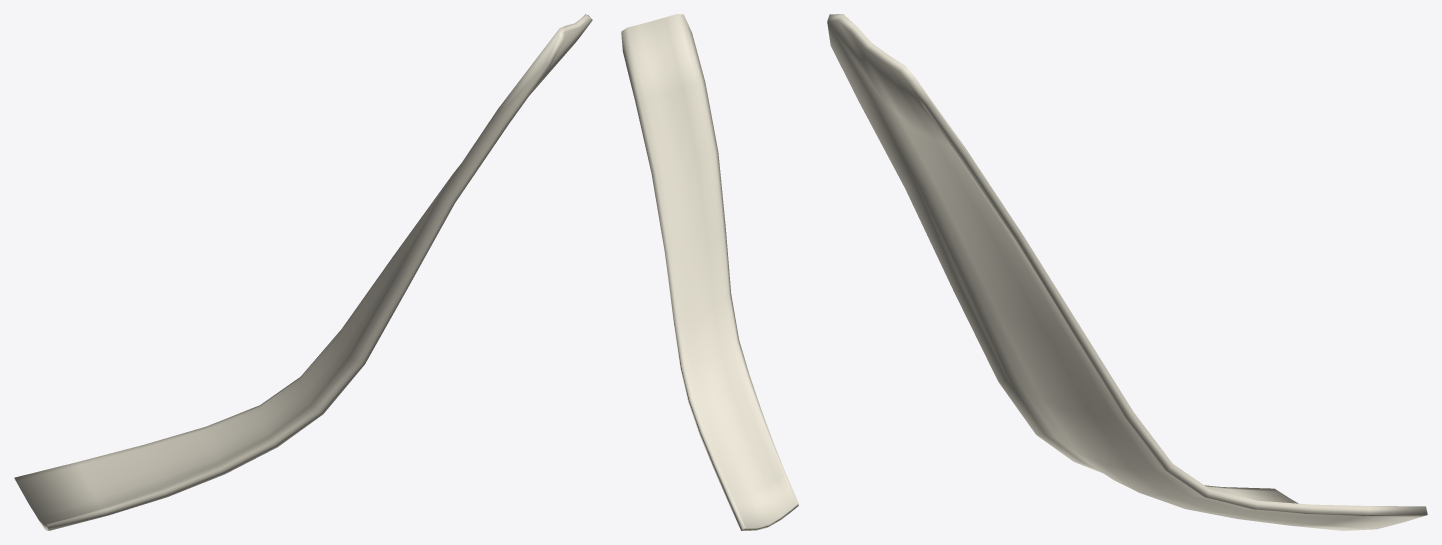
3 views of the same model, side by side, from view 1: azimuth 30°, elevation 25°; view 2: azimuth 150°, elevation 25°; view 3: azimuth 270°, elevation 25° (orthographic). The views are drawn at different scales.
Visible parts, largest first — view 1: ZA_c3fe4751d1df1a8b; view 2: ZA_c3fe4751d1df1a8b; view 3: ZA_c3fe4751d1df1a8b.
Boxes of the visible parts, <box> form: ZA_c3fe4751d1df1a8b: <box>14,14,592,530</box>; ZA_c3fe4751d1df1a8b: <box>621,14,798,530</box>; ZA_c3fe4751d1df1a8b: <box>827,14,1427,530</box>.
Size of the model in its own units: 0.0343 by 0.0446 by 0.0334.
